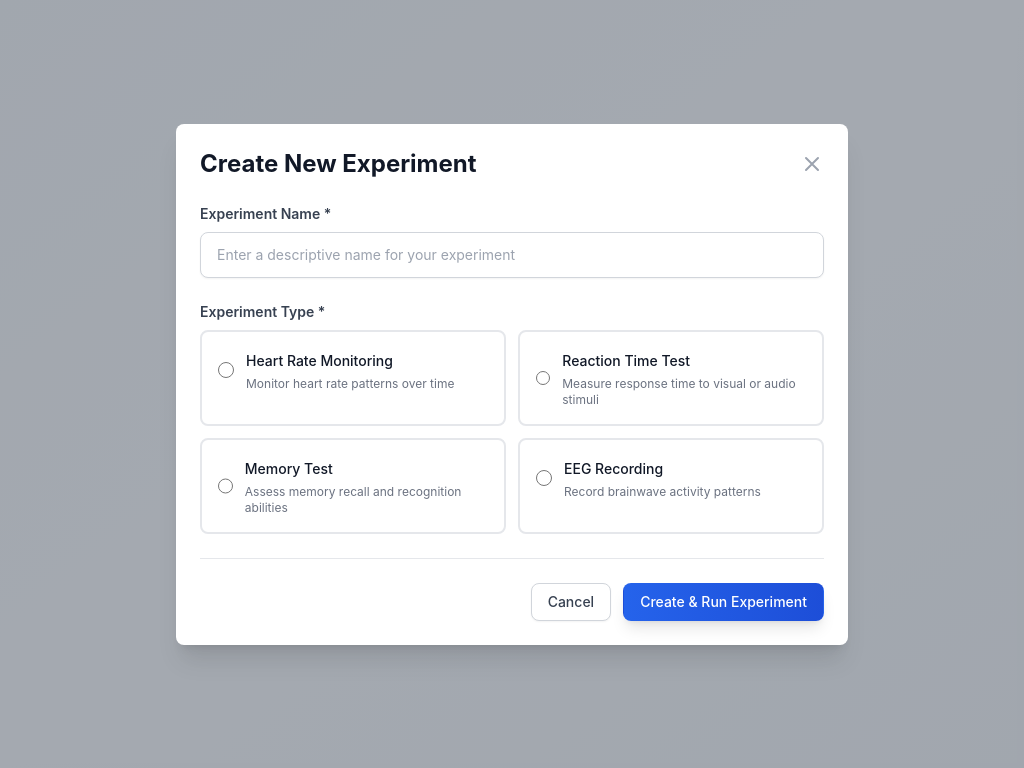
ExperimentForm › shows parameters when experiment type is selected
# Select heart rate experiment
Click the text "Heart Rate Monitoring": (319, 360) [246,352,393,368]
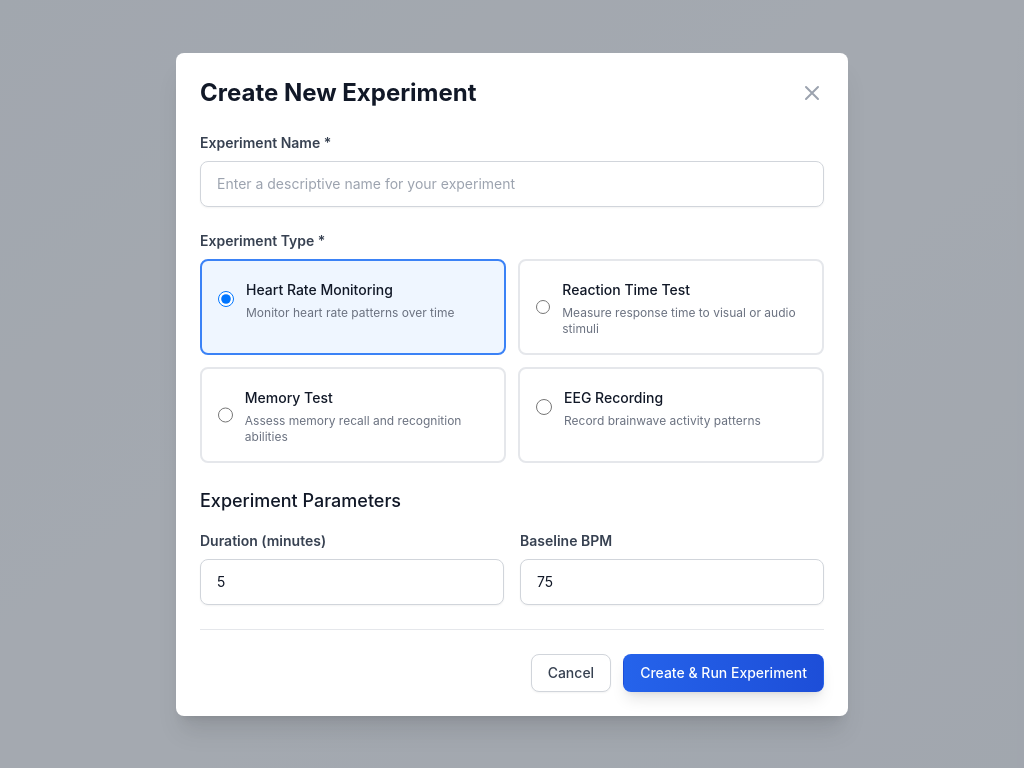
Now the heading "Experiment Parameters" is shown, box [200,490,401,510]
Now the number field labelled "Duration (minutes)" is shown, box [200,558,504,604]
Now the number field labelled "Baseline BPM" is shown, box [520,558,824,604]
